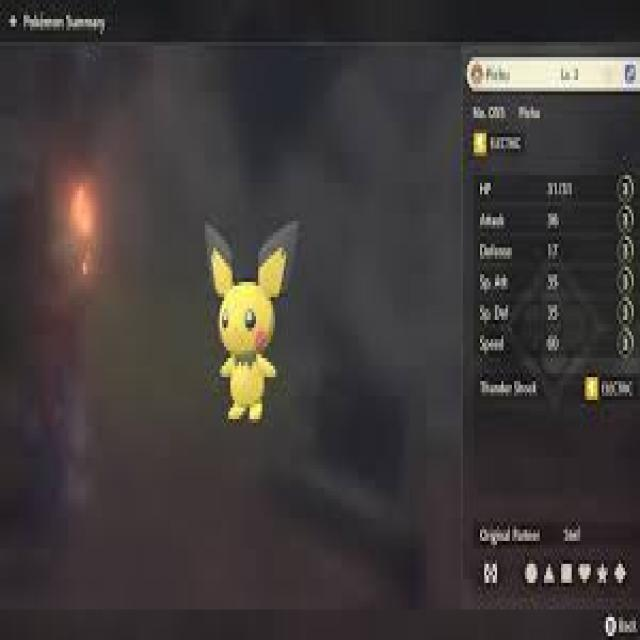pichu: (189, 218, 302, 421)
